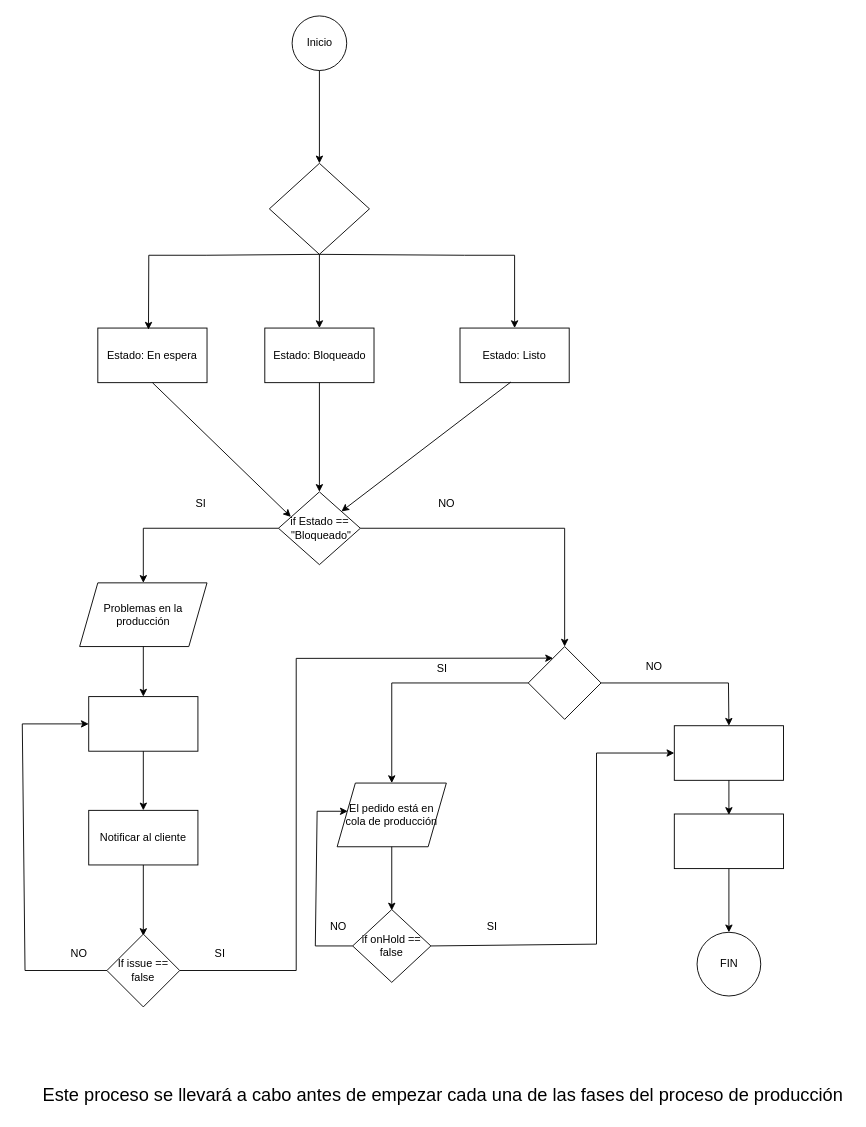
This 866x1127 diagram has some shape labels left out. Each missing label, with the centre of its shape:
Cambio de estado: listo: (x=728, y=841)
Fase de producción: (x=728, y=752)
if Estado == "En Espera": (x=564, y=682)
Mandar notificación al departamento de ventas: (x=143, y=723)
Según control de proceso productivo: (x=318, y=208)
